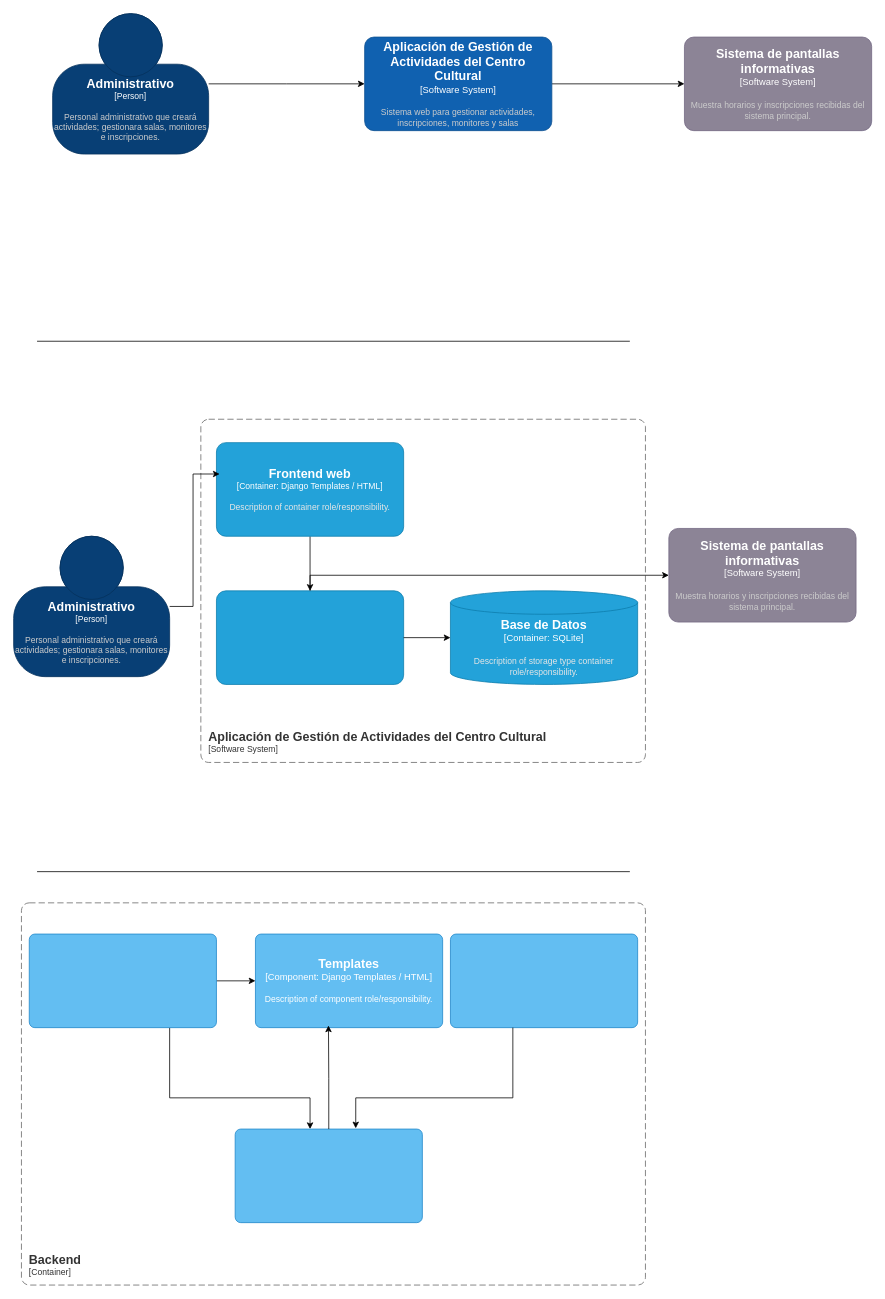
The diagram is 885 pixels wide and 1299 high, and some of its shapes have lost their labels. Here are the shapes that lost their labels. From the top down, the centre of each, then its label:
point (310, 637): Backend [Container: Django] Description of container role/responsibility.
point (122, 980): Vista [Component: Django Phyton] Description of component role/responsibility.
point (544, 980): Django Forms [Component: Phyton] Description of component role/responsibility.
point (328, 1175): Modelo [Component: Django Phyton] Description of component role/responsibility.
